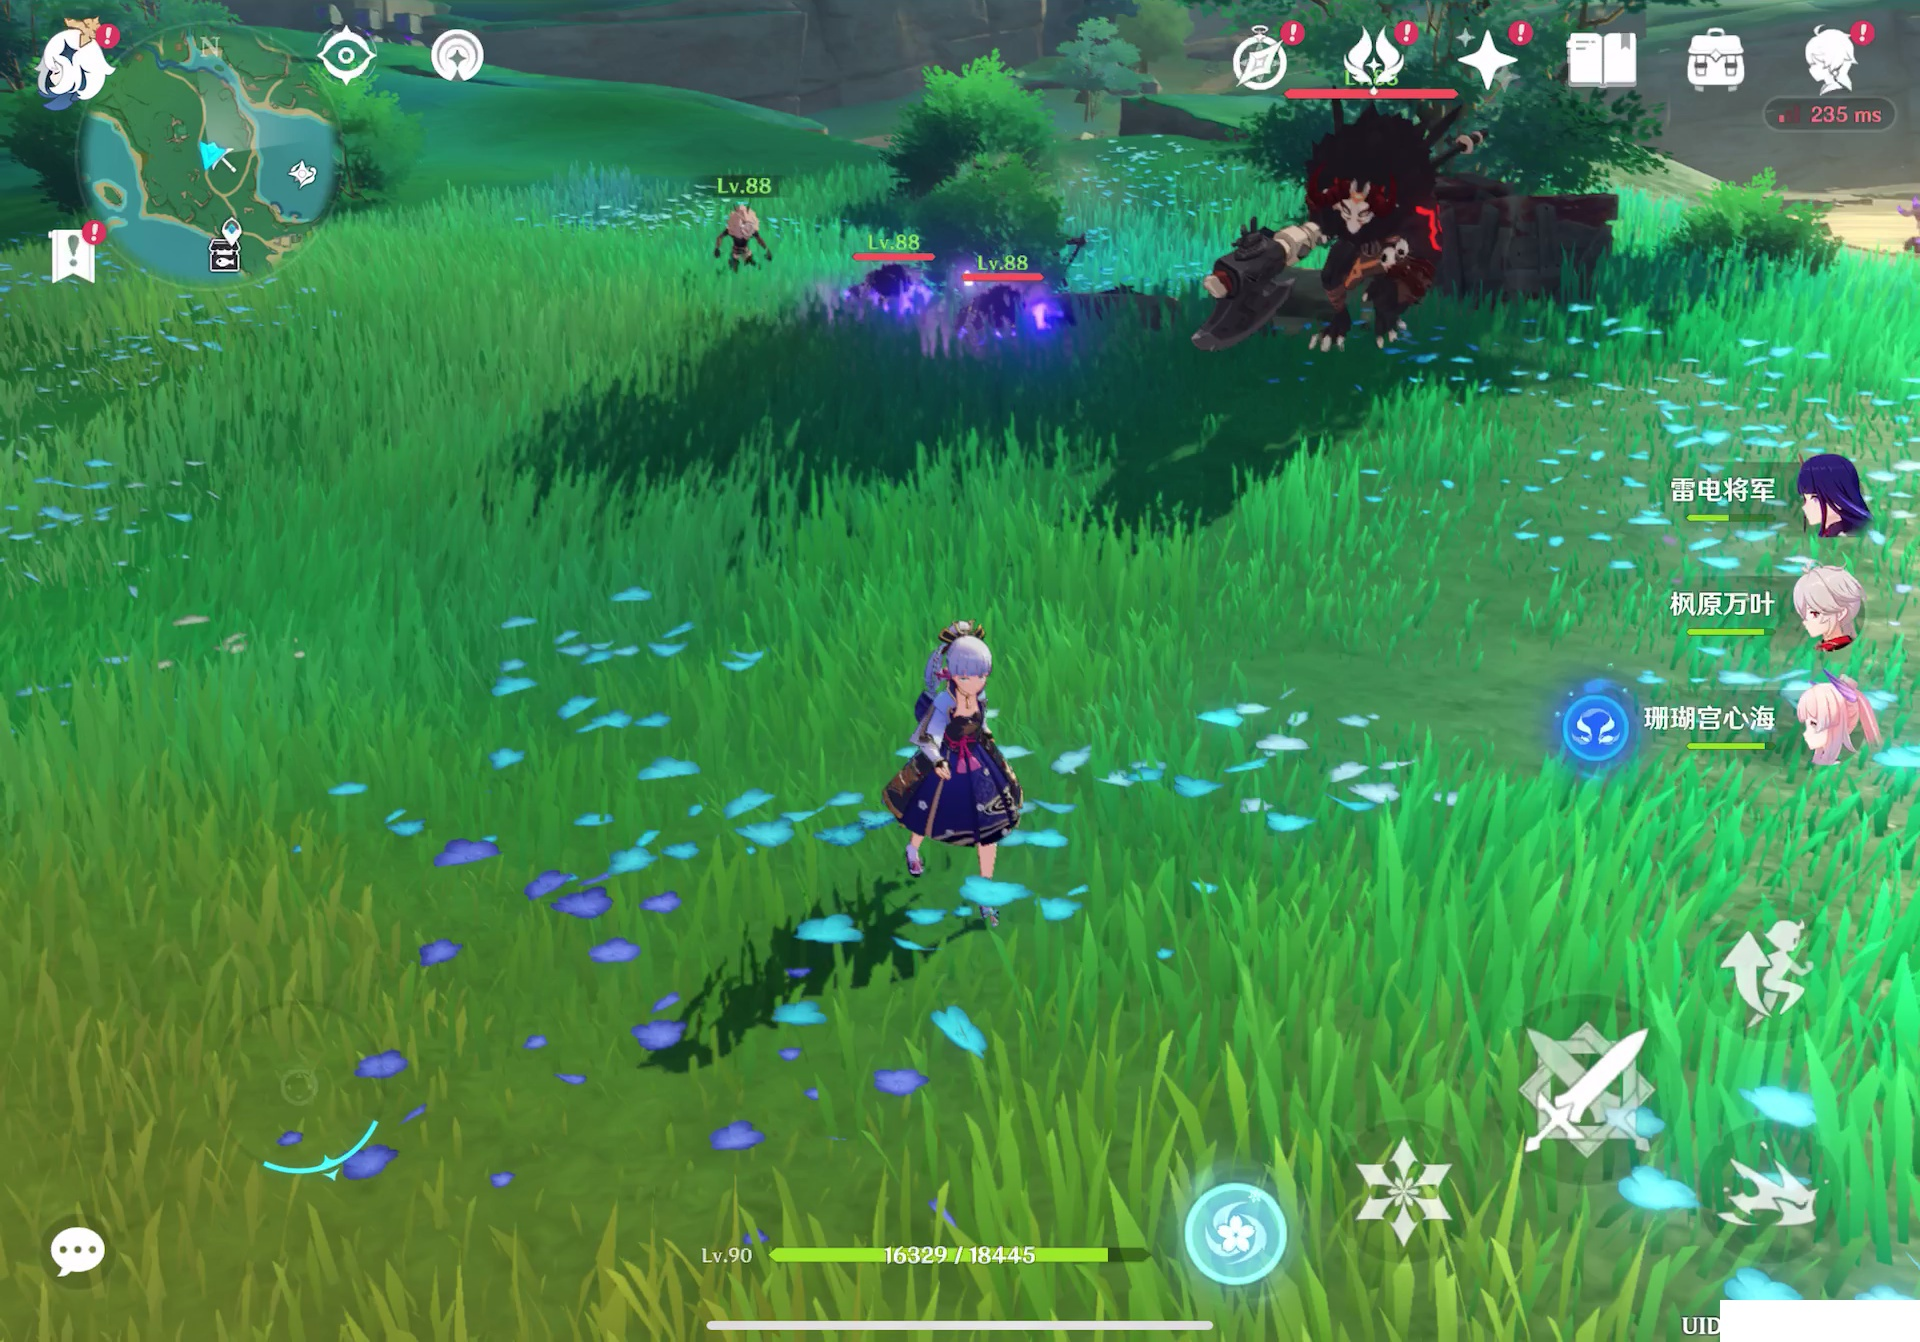NTR: (1205, 106, 1481, 352)
丘丘人: (945, 295, 1084, 363), (706, 212, 783, 284), (853, 252, 942, 311)
神里绫龟: (880, 613, 1043, 938)
